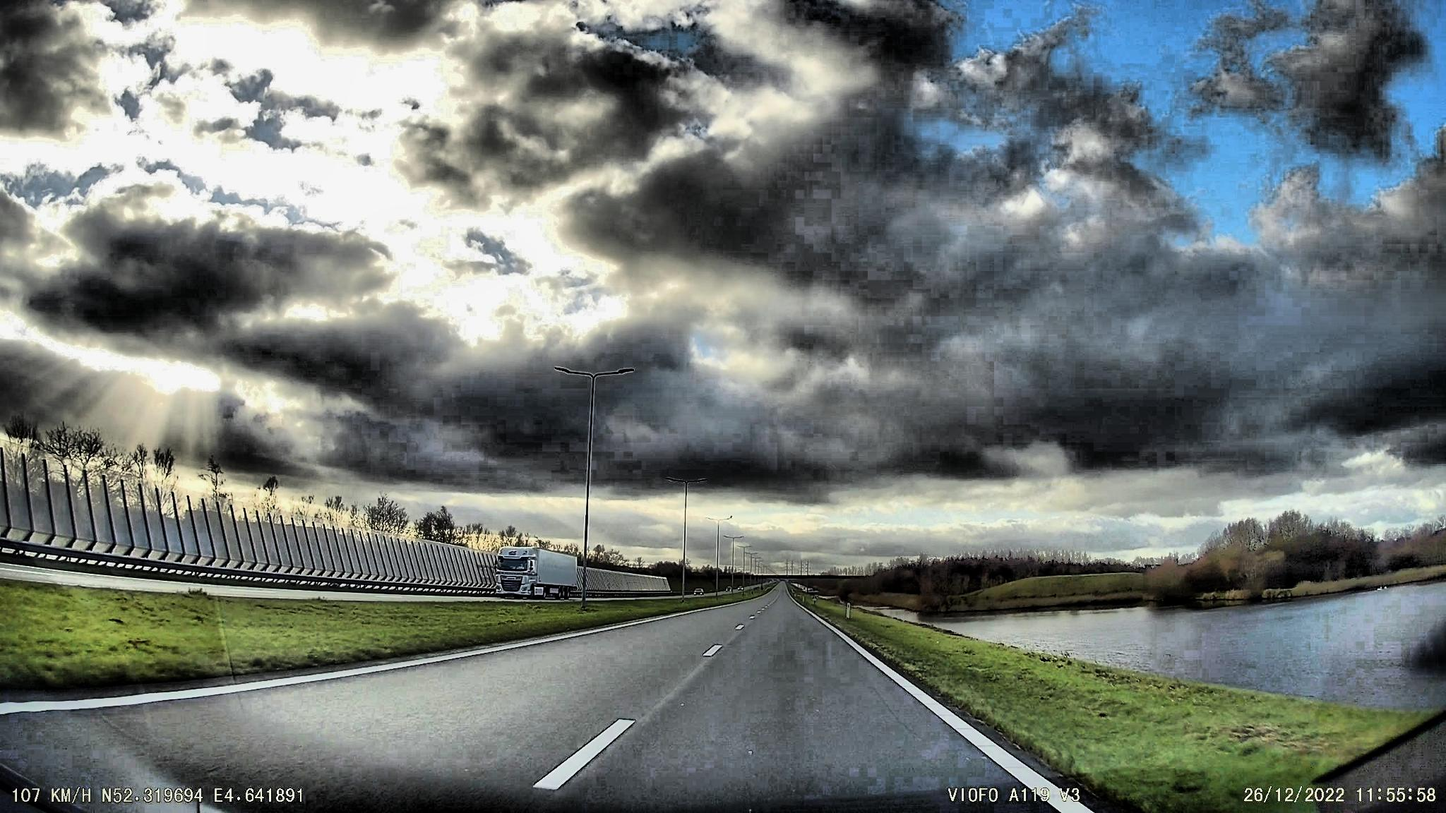Roads: (0, 596, 1145, 813)
